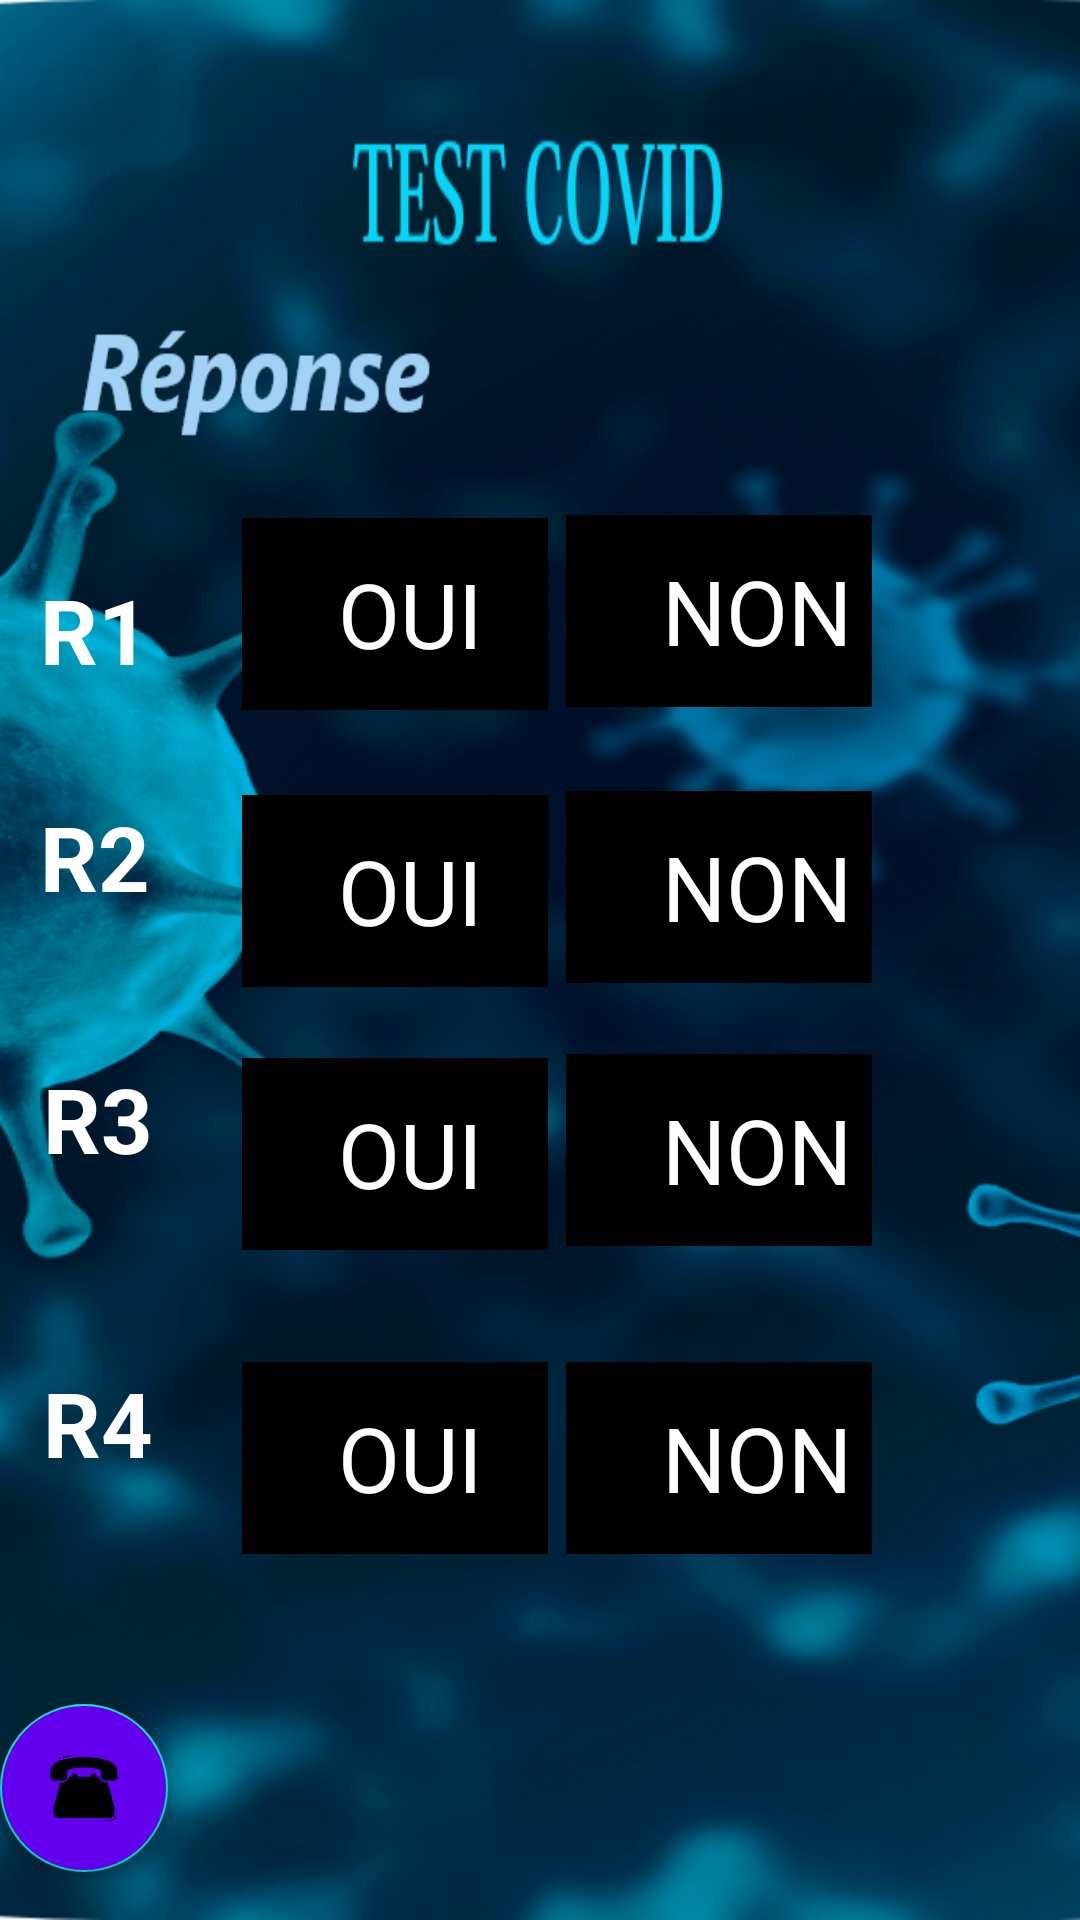

Icons on this 1080px x 1920px Android screen, each with the point to tap as [x,y]:
tel: [84,1788]
